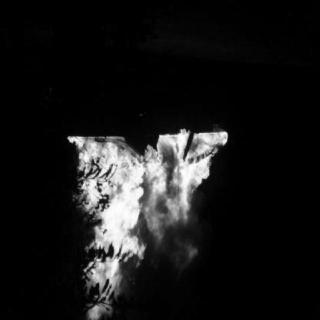Fire: (62, 130, 229, 316)
